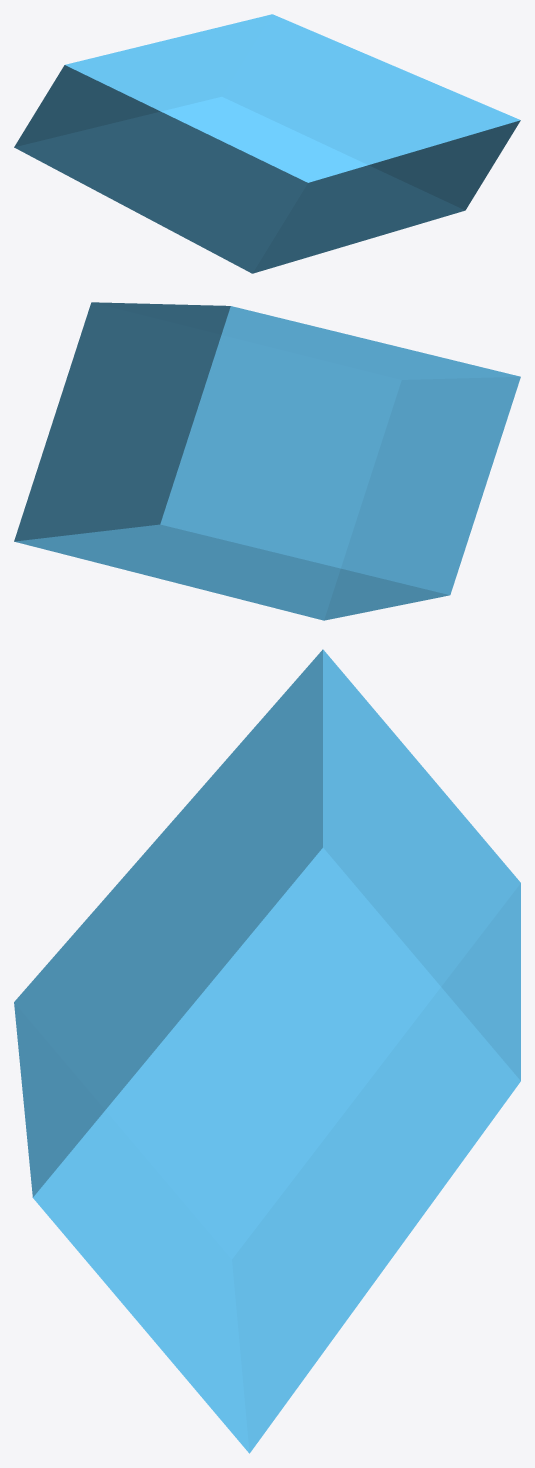
The model's file is Event_421278790_HBrechit_27.fbx.
The picture shows the model from 3 angles, top to bottom: view 1: azimuth 30°, elevation 25°; view 2: azimuth 150°, elevation 25°; view 3: azimuth 270°, elevation 25°; orthographic projection. The views are drawn at different scales.
Visible parts, largest first — view 1: Model; view 2: Model; view 3: Model.
Boxes of the visible parts, x1,y1,x2,y2 form: Model: (14, 14, 520, 273); Model: (14, 302, 520, 620); Model: (14, 649, 520, 1453).
Bounding box in the file's own units: 1.07 × 0.6183 × 0.6264.
